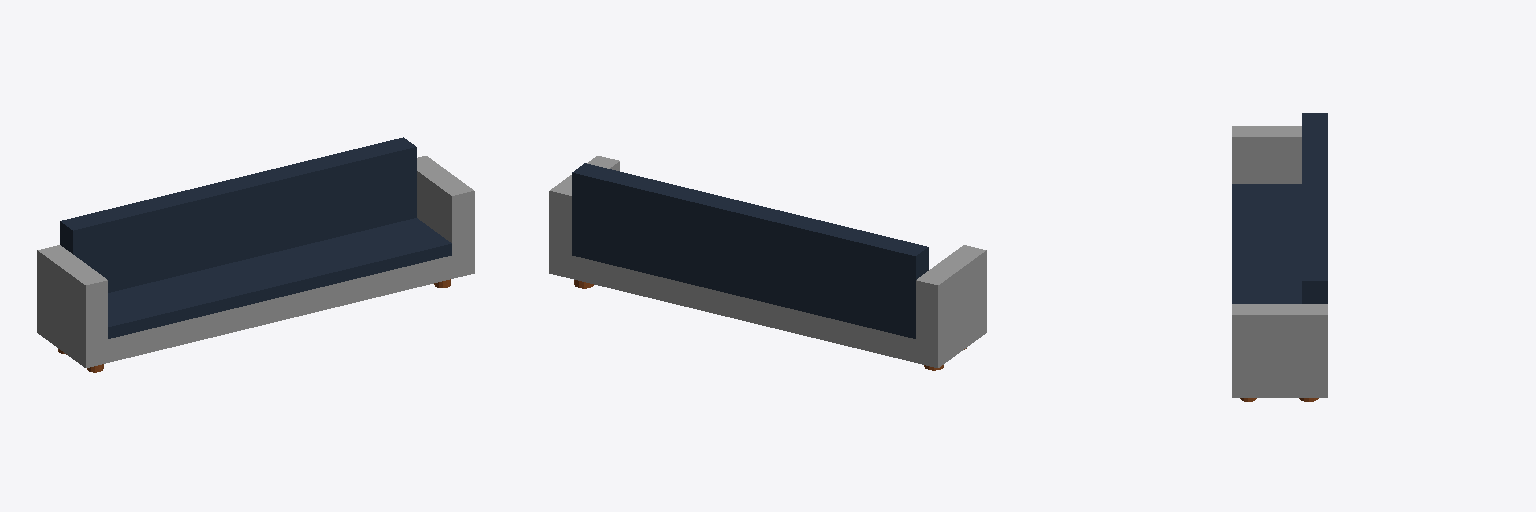
File: SOFA.obj
3 views of the same model, side by side, from view 1: azimuth 30°, elevation 25°; view 2: azimuth 150°, elevation 25°; view 3: azimuth 270°, elevation 25° (orthographic).
Parts seen in each view (by area): view 1: Mesh1 Model; view 2: Mesh1 Model; view 3: Mesh1 Model.
Part boxes in pixels (left/top/right/bottom): Mesh1 Model: left=37, top=137, right=474, bottom=372; Mesh1 Model: left=549, top=156, right=986, bottom=370; Mesh1 Model: left=1232, top=113, right=1327, bottom=401.
Bounding box in the file's own units: 172 × 50 × 37.